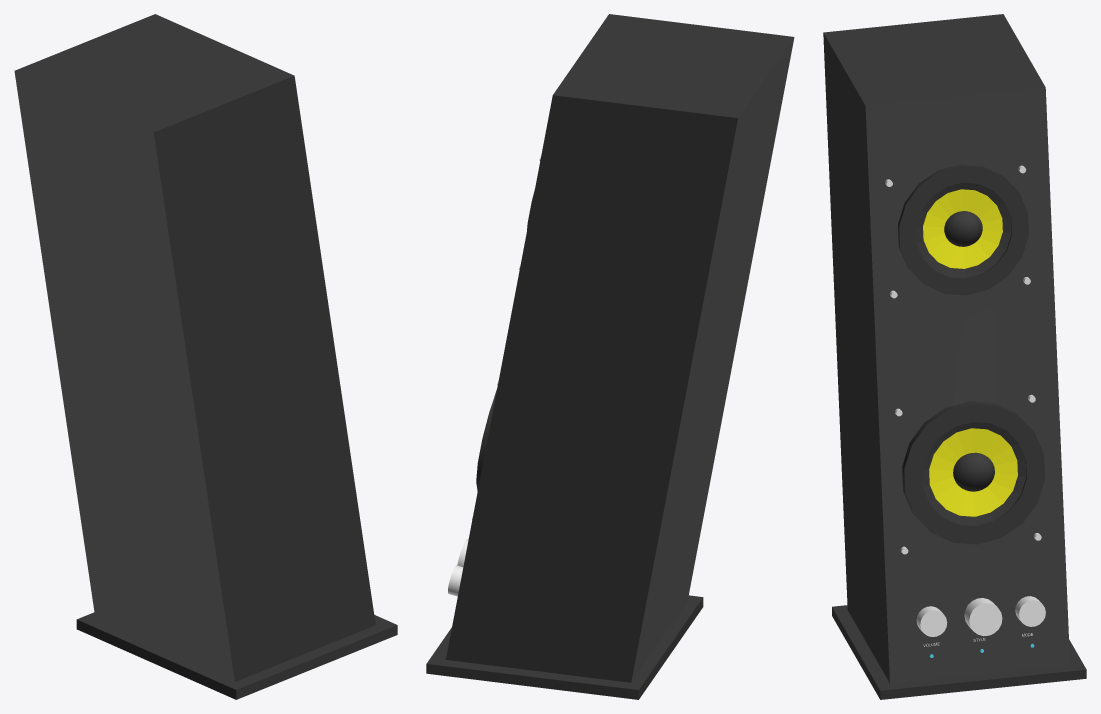
The model's file is WallDeskSpeakers.gltf.
3 views of the same model, side by side, from view 1: azimuth 30°, elevation 25°; view 2: azimuth 150°, elevation 25°; view 3: azimuth 270°, elevation 25° (orthographic). The views are drawn at different scales.
Visible parts, largest first — view 1: node-0; view 2: node-0; view 3: node-0.
Boxes of the visible parts, x1=… form: node-0: x1=14, y1=14, x2=397, y2=699; node-0: x1=426, y1=14, x2=794, y2=699; node-0: x1=823, y1=14, x2=1086, y2=699.
Bounding box in the file's own units: 16203 × 29008 × 12723.
